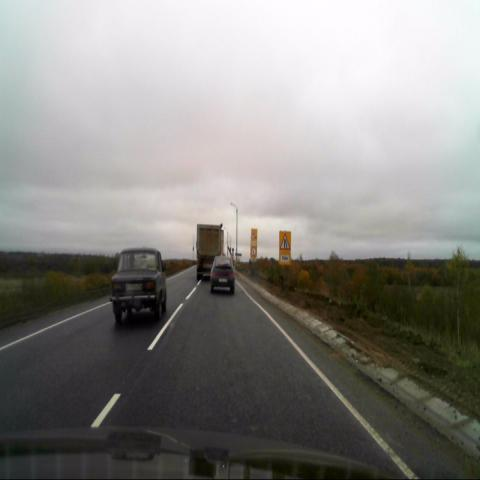1_20_2: (279, 231, 291, 252)
